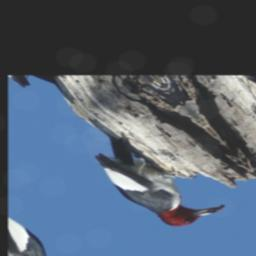Woodpecker: (57, 102, 227, 238)
